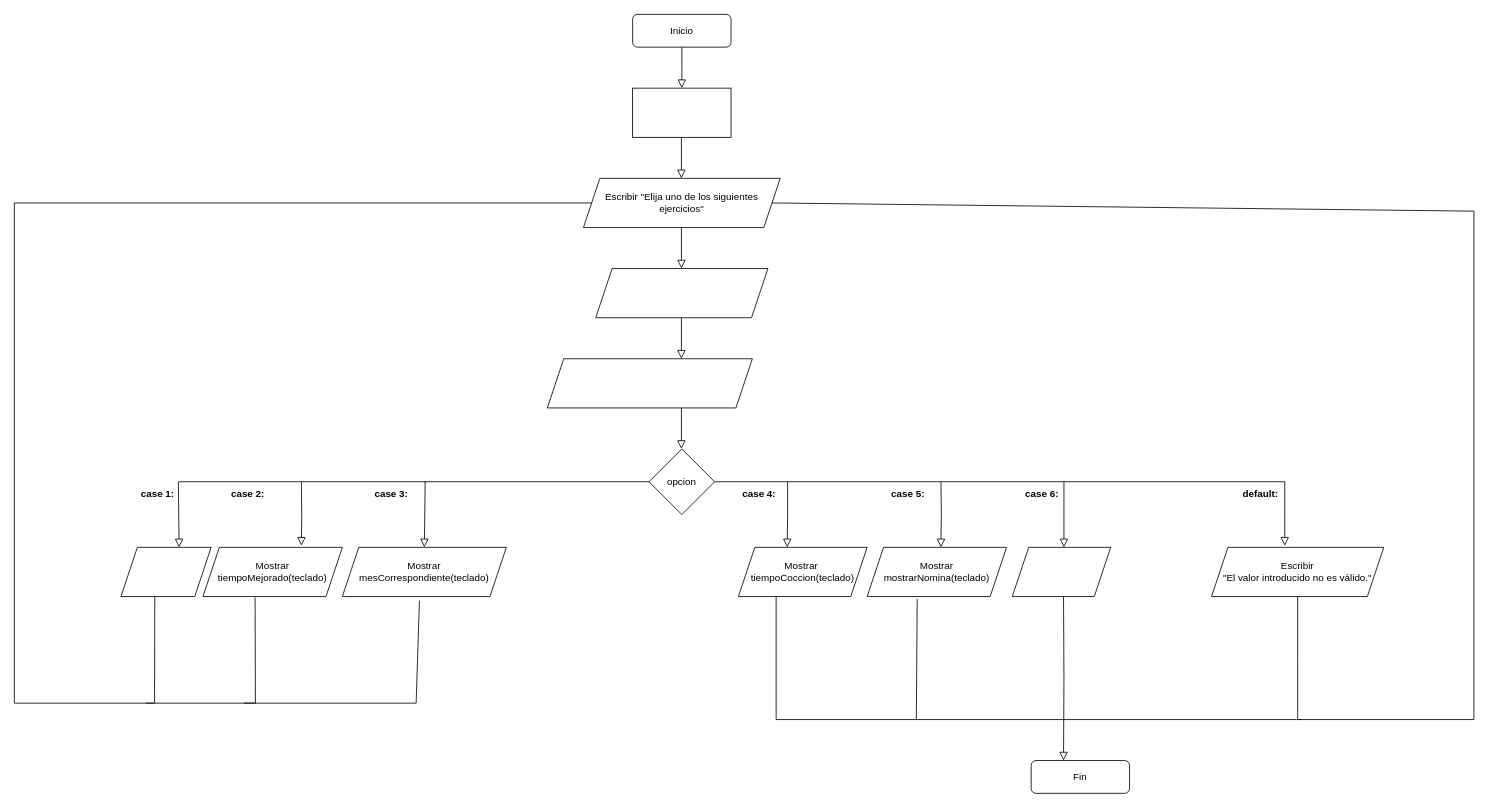
Some shapes in this 1489 by 808 pixel diagram are drawn without their labels. Each missing label, with the centre of its shape:
Asignar el valor 0 a la variable opcion: (x=681, y=112)
Escribir "Gracias.": (x=1061, y=572)
Mostrar el menu(): (x=681, y=293)
Mostrar tiempo(teclado): (x=165, y=572)
Poner en la variable opcion el valor introducido: (x=649, y=383)
